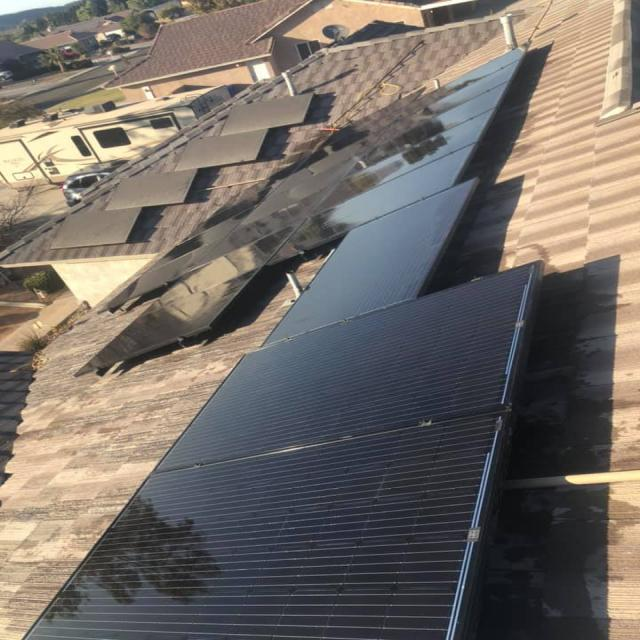clean-solar-panel: (28, 266, 538, 640), (81, 51, 523, 374), (265, 179, 477, 344)
